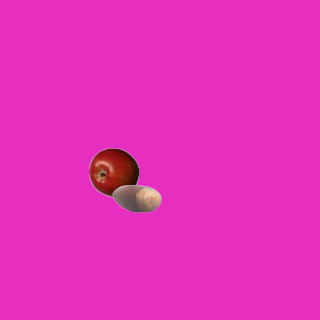Apple Braeburn: (88, 147, 138, 197)
Hazelnut: (111, 173, 161, 223)
